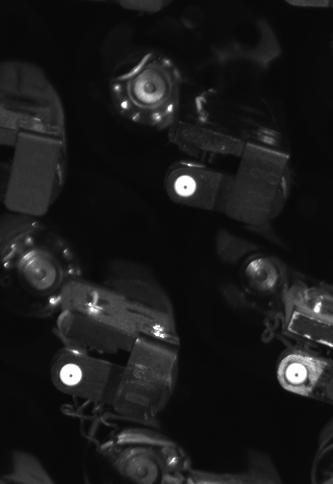fiber: (51, 357, 92, 392), (279, 358, 313, 388), (169, 171, 200, 203)
